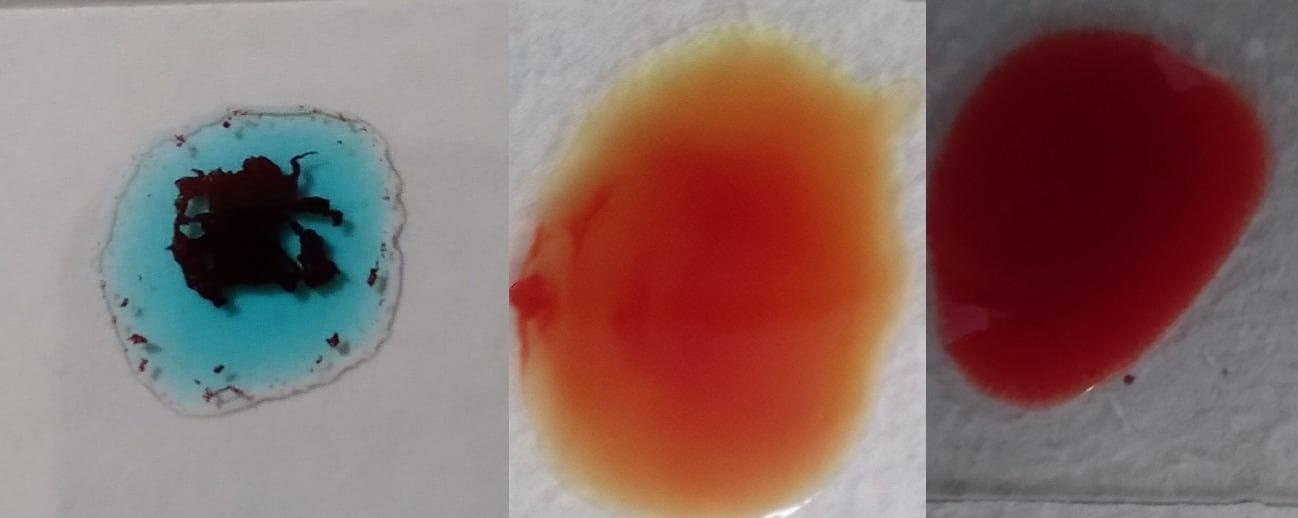A: (93, 84, 406, 412)
